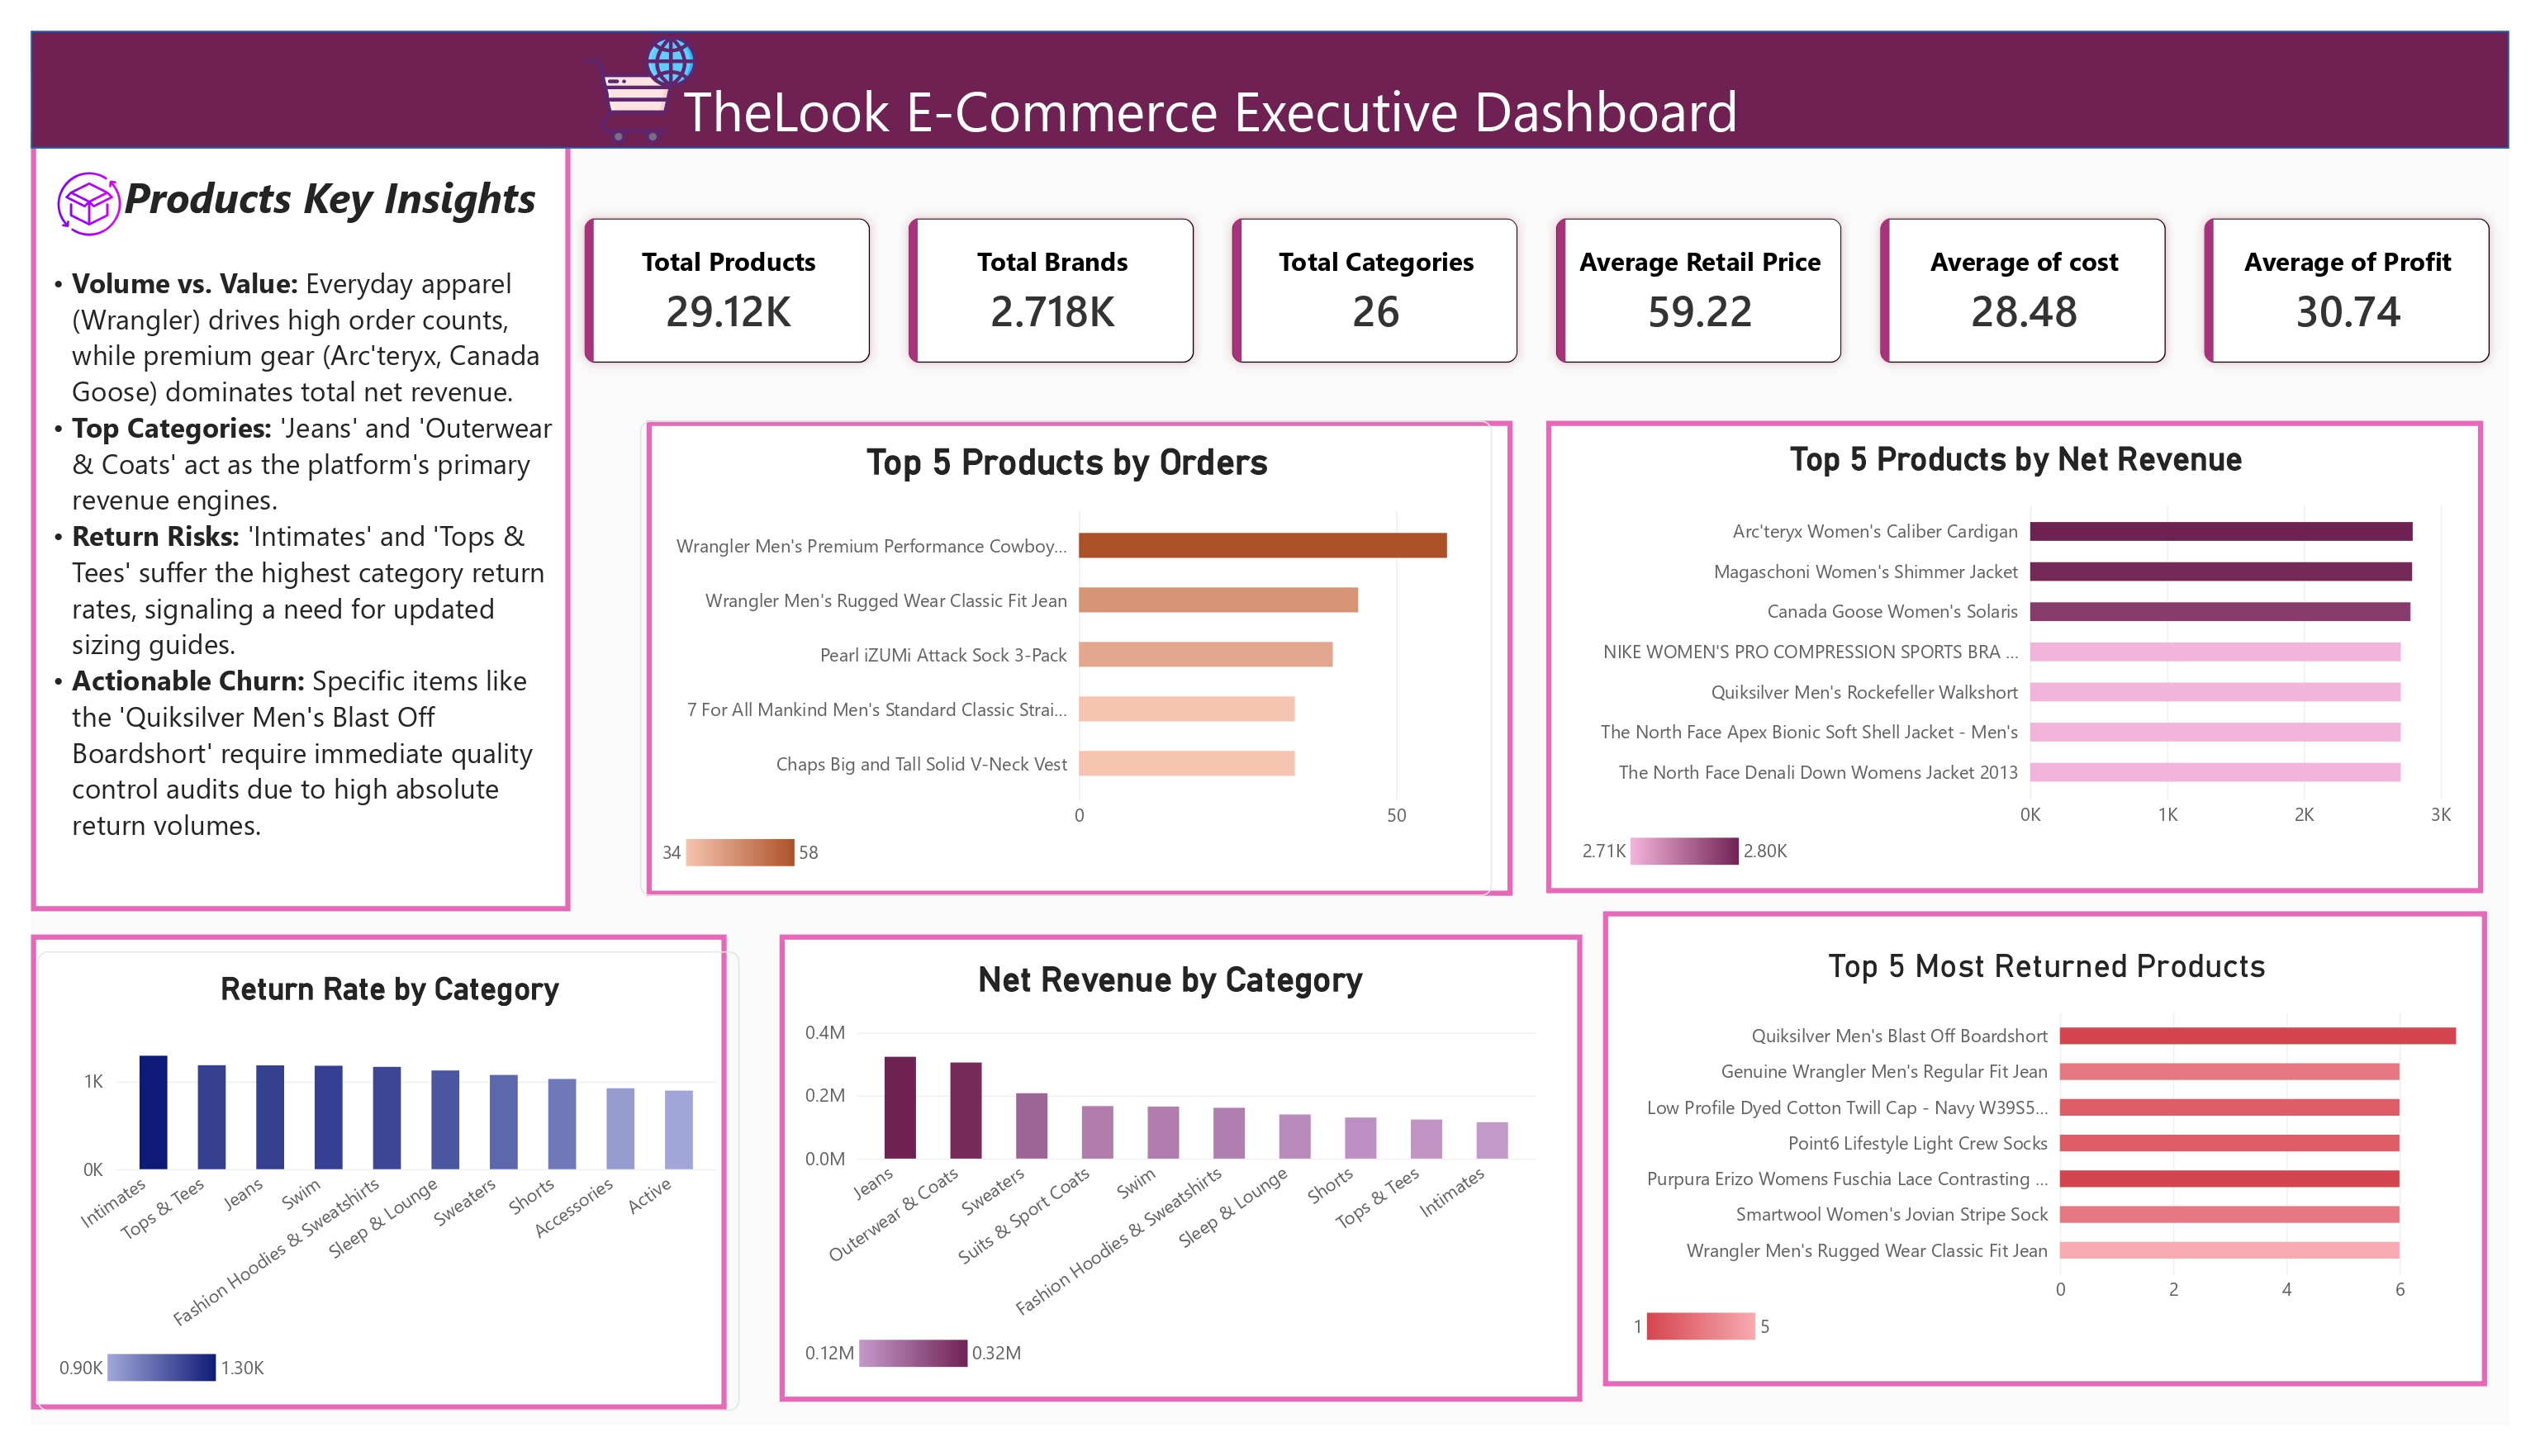

Layout of this report page (visuals, bound fields, positions):
{"tool":"powerbi","page":{"name":"Products","canvas":[1920,1080],"ordinal":2},"visuals":[{"type":"shape","box":[0,78,418,604],"z":0},{"type":"shape","box":[0,0,1920.4,90.6],"z":1000},{"type":"textbox","box":[458.9,32.1,910.7,73.2],"z":2000},{"type":"image","box":[417.9,0,109.1,90.6],"z":3000},{"type":"group","id":"g1","title":"Group 1","box":[476.5,302,671.5,368],"z":4000,"group":"g3"},{"type":"textbox","box":[496,398,132,244],"z":4000},{"type":"cardVisual","fields":{"Data":["CountNonNull(products.id)","Count(products.brand)","Count(products.category)","Avg(products.retail_price)","Avg(products.cost)","Avg(products.Profit)"]},"box":[418,134,1502,134],"z":5000},{"type":"group","id":"g2","title":"Group 1","box":[1174,302,726,366],"z":5000,"group":"g8"},{"type":"group","id":"g3","title":"Group 2","box":[472,302,676,368],"z":6000},{"type":"clusteredBarChart","title":"Top 5 Products by Orders","fields":{"Category":["products.name"],"Y":["CountNonNull(order_items.product_id)"]},"box":[472,302,660.2,368],"z":7000,"group":"g3"},{"type":"group","id":"g4","title":"Group 1","box":[1218,682,685.2,368],"z":7000,"group":"g9"},{"type":"group","id":"g5","title":"Group 1","box":[0,700,539.5,368.4],"z":7000,"group":"g6"},{"type":"group","id":"g6","title":"Group 3","box":[0,700,548,370],"z":7000},{"type":"group","id":"g7","title":"Group 1","box":[580,700,622,362],"z":7000,"group":"g12"},{"type":"group","id":"g8","title":"Group 4","box":[1174,302,726,366],"z":8000},{"type":"columnChart","title":"Return Rate by Category","fields":{"Category":["products.category"],"Y":["CountNonNull(order_items.product_id)"]},"box":[4.8,713.3,544.7,356.1],"z":8001,"group":"g6"},{"type":"clusteredBarChart","title":"Top 5 Products by Net Revenue","fields":{"Category":["products.name"],"Y":["orders.Net Revenue"]},"box":[1186.5,302,704.2,366],"z":9000,"group":"g8"},{"type":"group","id":"g9","title":"Group 3","box":[1218,682,685.2,368],"z":9000,"group":"g10"},{"type":"group","id":"g10","title":"Group 5","box":[1218,682,682,368],"z":9000},{"type":"clusteredBarChart","title":"Top 5 Most Returned Products","fields":{"Category":["products.name"],"Y":["CountNonNull(order_items.product_id)"]},"box":[1225.3,694.7,673.8,341.3],"z":10000,"group":"g10"},{"type":"group","id":"g11","title":"Group 6","box":[580,700,622,362],"z":10000},{"type":"group","id":"g12","title":"Group 3","box":[580,700,622,362],"z":10000,"group":"g11"},{"type":"textbox","box":[72,106,332.1,55.4],"z":11000},{"type":"columnChart","title":"Net Revenue by Category","fields":{"Category":["products.category"],"Y":["orders.Net Revenue"]},"box":[583.6,705.3,598.4,351.5],"z":11000,"group":"g11"},{"type":"image","box":[0,106,88.5,55.6],"z":12000},{"type":"textbox","box":[0,180,418,488],"z":13000},{"type":"shape","box":[476.5,302,671.5,368],"z":13000,"group":"g1"},{"type":"shape","box":[1174,302,726,366],"z":13000,"group":"g2"},{"type":"shape","box":[1218,682,685.2,368],"z":13000,"group":"g4"},{"type":"shape","box":[0,700,539.5,368.4],"z":13000,"group":"g5"},{"type":"shape","box":[580,700,622,362],"z":13000,"group":"g7"}]}

Visuals, with their boxes on the page's 1920x1080 design canvas (x1, y1, x2, y2). These are canvas units, not pixel positions in the 2540x1456 screenshot, which may show the page scaled, cropped or inside an application window:
shape: 0:78:418:682
shape: 0:0:1920:91
textbox: 459:32:1370:105
image: 418:0:527:91
"Group 1" group: 476:302:1148:670
textbox: 496:398:628:642
cardVisual - CountNonNull(products.id) x Count(products.brand): 418:134:1920:268
"Group 1" group: 1174:302:1900:668
"Group 2" group: 472:302:1148:670
"Top 5 Products by Orders" clusteredBarChart: 472:302:1132:670
"Group 1" group: 1218:682:1903:1050
"Group 1" group: 0:700:540:1068
"Group 3" group: 0:700:548:1070
"Group 1" group: 580:700:1202:1062
"Group 4" group: 1174:302:1900:668
"Return Rate by Category" columnChart: 5:713:550:1069
"Top 5 Products by Net Revenue" clusteredBarChart: 1186:302:1891:668
"Group 3" group: 1218:682:1903:1050
"Group 5" group: 1218:682:1900:1050
"Top 5 Most Returned Products" clusteredBarChart: 1225:695:1899:1036
"Group 6" group: 580:700:1202:1062
"Group 3" group: 580:700:1202:1062
textbox: 72:106:404:161
"Net Revenue by Category" columnChart: 584:705:1182:1057
image: 0:106:88:162
textbox: 0:180:418:668
shape: 476:302:1148:670
shape: 1174:302:1900:668
shape: 1218:682:1903:1050
shape: 0:700:540:1068
shape: 580:700:1202:1062
